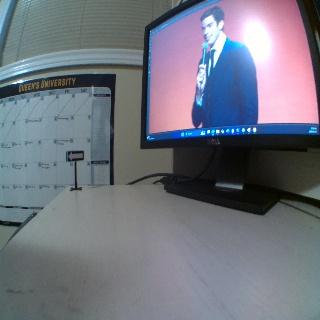sign_oneway_left: (65, 149, 84, 161)
